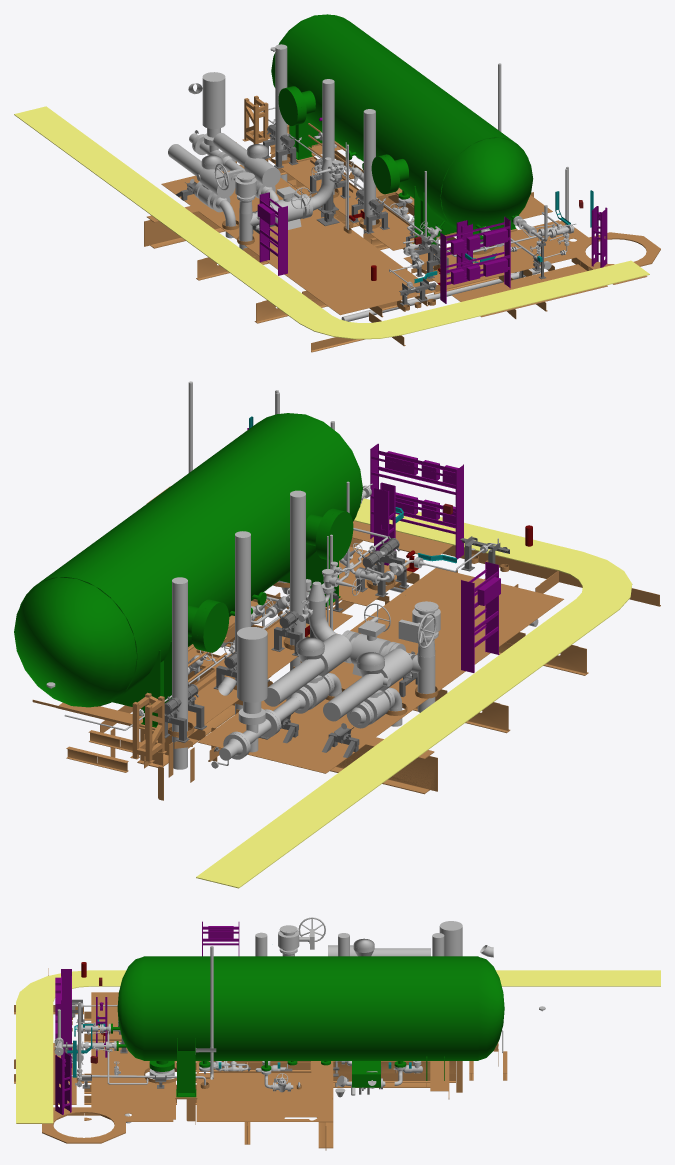
File: huldra-smaller.obj
The picture shows the model from 3 angles, top to bottom: view 1: azimuth 30°, elevation 25°; view 2: azimuth 150°, elevation 25°; view 3: azimuth 270°, elevation 25°; orthographic projection. The views are drawn at different scales.
Parts seen in each view (by area): view 1: BOX_14_of_SUBSTRUCTURE_/ESCAPE-MEZZ/FLOOR_Mesh.015, Facet_Group_Mesh.266, DISH_1_of_SUBEQUIPMENT_/20-VA50/PRIM_Mesh.125, CYLINDER_4_of_SUBEQUIPMENT_/20-VA50/PRIM_Mesh.123, CYLINDER_3_of_SUBEQUIPMENT_/20-VA50/PRIM_Mesh.122, CYLINDER_2_of_SUBEQUIPMENT_/20-VA50/PRIM_Mesh.121, BOX_6_of_SUBSTRUCTURE_/ESCAPE-MEZZ/FLOOR_Mesh.014, Facet_Group.003_Mesh.315, /20-PV2201_Mesh.581, /27-XV2203_Mesh.601, /27-HV2203A_Mesh.589, RTORUS_1_of_SUBSTRUCTURE_/ESCAPE-MEZZ/FLOOR_Mesh.016 (+18 smaller); view 2: BOX_14_of_SUBSTRUCTURE_/ESCAPE-MEZZ/FLOOR_Mesh.015, DISH_2_of_SUBEQUIPMENT_/20-VA50/PRIM_Mesh.126, CYLINDER_3_of_SUBEQUIPMENT_/20-VA50/PRIM_Mesh.122, CYLINDER_2_of_SUBEQUIPMENT_/20-VA50/PRIM_Mesh.121, CYLINDER_4_of_SUBEQUIPMENT_/20-VA50/PRIM_Mesh.123, Facet_Group_Mesh.266, BOX_6_of_SUBSTRUCTURE_/ESCAPE-MEZZ/FLOOR_Mesh.014, /20-PV2201_Mesh.581, /27-XV2203_Mesh.601, /HB-N-MS/FS/MD3/DE3/PL002_Mesh.265, /27-HV2203A_Mesh.589, Cylinder.030_Mesh.631 (+22 smaller); view 3: CYLINDER_2_of_SUBEQUIPMENT_/20-VA50/PRIM_Mesh.121, CYLINDER_3_of_SUBEQUIPMENT_/20-VA50/PRIM_Mesh.122, CYLINDER_4_of_SUBEQUIPMENT_/20-VA50/PRIM_Mesh.123, BOX_6_of_SUBSTRUCTURE_/ESCAPE-MEZZ/FLOOR_Mesh.014, Facet_Group.003_Mesh.315, /HB-N-MS/FS/MD3/DE4/PL004_Mesh.310, BOX_14_of_SUBSTRUCTURE_/ESCAPE-MEZZ/FLOOR_Mesh.015, DISH_2_of_SUBEQUIPMENT_/20-VA50/PRIM_Mesh.126, DISH_1_of_SUBEQUIPMENT_/20-VA50/PRIM_Mesh.125, Facet_Group.002_Mesh.311, /HB-N-MS/DG/MD3/G1/IG.002_Mesh.230, RTORUS_1_of_SUBSTRUCTURE_/ESCAPE-MEZZ/FLOOR_Mesh.016 (+19 smaller).
Part boxes in pixels (x1=…): BOX_14_of_SUBSTRUCTURE_/ESCAPE-MEZZ/FLOOR_Mesh.015: x1=14, y1=106, x2=331, y2=323; Facet_Group_Mesh.266: x1=198, y1=188, x2=436, y2=315; DISH_1_of_SUBEQUIPMENT_/20-VA50/PRIM_Mesh.125: x1=440, y1=137, x2=533, y2=234; CYLINDER_4_of_SUBEQUIPMENT_/20-VA50/PRIM_Mesh.123: x1=385, y1=96, x2=513, y2=225; CYLINDER_3_of_SUBEQUIPMENT_/20-VA50/PRIM_Mesh.122: x1=334, y1=56, x2=460, y2=161; CYLINDER_2_of_SUBEQUIPMENT_/20-VA50/PRIM_Mesh.121: x1=274, y1=16, x2=405, y2=145; BOX_6_of_SUBSTRUCTURE_/ESCAPE-MEZZ/FLOOR_Mesh.014: x1=383, y1=260, x2=649, y2=335; Facet_Group.003_Mesh.315: x1=403, y1=220, x2=588, y2=288; /20-PV2201_Mesh.581: x1=193, y1=72, x2=225, y2=156; /27-XV2203_Mesh.601: x1=168, y1=144, x2=235, y2=209; /27-HV2203A_Mesh.589: x1=213, y1=132, x2=280, y2=198; RTORUS_1_of_SUBSTRUCTURE_/ESCAPE-MEZZ/FLOOR_Mesh.016: x1=299, y1=315, x2=401, y2=339; BOX_14_of_SUBSTRUCTURE_/ESCAPE-MEZZ/FLOOR_Mesh.015: x1=196, y1=598, x2=619, y2=888; DISH_2_of_SUBEQUIPMENT_/20-VA50/PRIM_Mesh.126: x1=14, y1=577, x2=136, y2=707; CYLINDER_3_of_SUBEQUIPMENT_/20-VA50/PRIM_Mesh.122: x1=111, y1=467, x2=286, y2=616; CYLINDER_2_of_SUBEQUIPMENT_/20-VA50/PRIM_Mesh.121: x1=38, y1=521, x2=212, y2=694; CYLINDER_4_of_SUBEQUIPMENT_/20-VA50/PRIM_Mesh.123: x1=184, y1=415, x2=358, y2=587; Facet_Group_Mesh.266: x1=261, y1=568, x2=563, y2=736; BOX_6_of_SUBSTRUCTURE_/ESCAPE-MEZZ/FLOOR_Mesh.014: x1=354, y1=498, x2=582, y2=570; /20-PV2201_Mesh.581: x1=230, y1=627, x2=279, y2=755; /27-XV2203_Mesh.601: x1=323, y1=648, x2=412, y2=724; /HB-N-MS/FS/MD3/DE3/PL002_Mesh.265: x1=197, y1=713, x2=365, y2=773; /27-HV2203A_Mesh.589: x1=264, y1=634, x2=352, y2=709; Cylinder.030_Mesh.631: x1=172, y1=577, x2=187, y2=769; CYLINDER_2_of_SUBEQUIPMENT_/20-VA50/PRIM_Mesh.121: x1=365, y1=956, x2=474, y2=1060; CYLINDER_3_of_SUBEQUIPMENT_/20-VA50/PRIM_Mesh.122: x1=255, y1=956, x2=364, y2=1060; CYLINDER_4_of_SUBEQUIPMENT_/20-VA50/PRIM_Mesh.123: x1=147, y1=956, x2=255, y2=1060; BOX_6_of_SUBSTRUCTURE_/ESCAPE-MEZZ/FLOOR_Mesh.014: x1=16, y1=1001, x2=53, y2=1123; Facet_Group.003_Mesh.315: x1=91, y1=1044, x2=175, y2=1121; /HB-N-MS/FS/MD3/DE4/PL004_Mesh.310: x1=196, y1=1090, x2=318, y2=1121; BOX_14_of_SUBSTRUCTURE_/ESCAPE-MEZZ/FLOOR_Mesh.015: x1=90, y1=970, x2=660, y2=986; DISH_2_of_SUBEQUIPMENT_/20-VA50/PRIM_Mesh.126: x1=478, y1=957, x2=504, y2=1060; DISH_1_of_SUBEQUIPMENT_/20-VA50/PRIM_Mesh.125: x1=117, y1=957, x2=143, y2=1060; Facet_Group.002_Mesh.311: x1=196, y1=1061, x2=318, y2=1090; /HB-N-MS/DG/MD3/G1/IG.002_Mesh.230: x1=318, y1=1061, x2=333, y2=1150; RTORUS_1_of_SUBSTRUCTURE_/ESCAPE-MEZZ/FLOOR_Mesh.016: x1=16, y1=970, x2=90, y2=1001.
Size of the model in its own units: 11.12 by 5.32 by 17.38.
